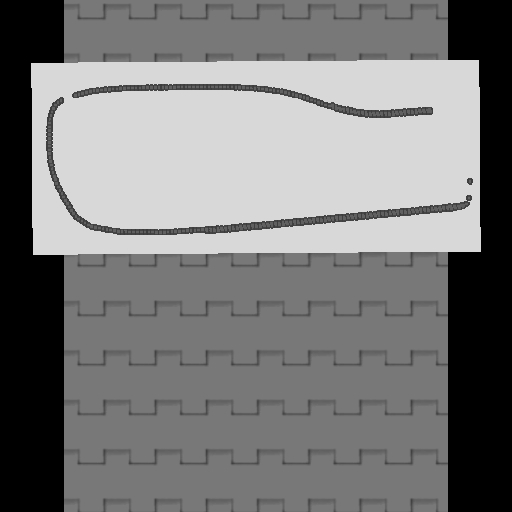Defect: (58, 89, 78, 106)
